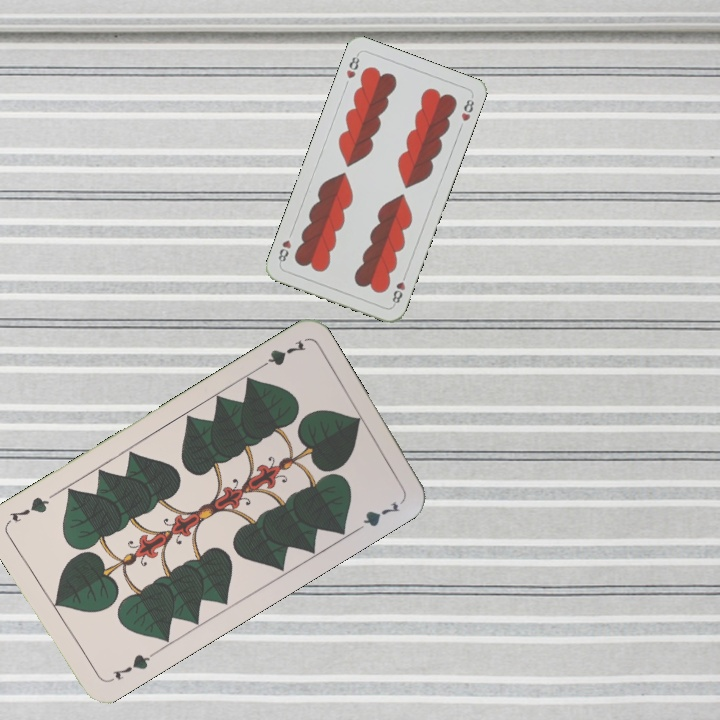G7: (253, 336, 309, 373), (108, 648, 157, 683)
H8: (388, 269, 409, 308), (342, 50, 362, 81)
